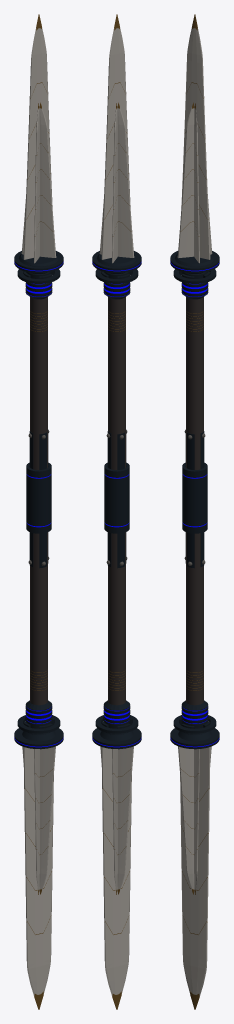
The model's file is SciFi_Double_Spear__Lopoly.FBX.
3 views of the same model, side by side, from view 1: azimuth 30°, elevation 25°; view 2: azimuth 210°, elevation 25°; view 3: azimuth 330°, elevation 25° (orthographic).
Parts seen in each view (by area): view 1: Box065, Cylinder026, Cylinder001, Box002, Cylinder029, Box063, Box067, Box064, Box066, Cylinder027, Cylinder002, Cylinder028 (+1 smaller); view 2: Box065, Cylinder026, Cylinder001, Box002, Cylinder029, Box063, Box067, Box064, Box066, Cylinder027, Cylinder002, Cylinder028 (+1 smaller); view 3: Box065, Cylinder026, Cylinder001, Box002, Cylinder029, Box064, Box066, Box063, Box067, Cylinder027, Cylinder002, Cylinder028 (+1 smaller).
Part boxes in pixels (box(x1,y1,x2,y2)): Box065: box(23, 747, 53, 1009); Cylinder026: box(22, 532, 55, 741); Cylinder001: box(19, 253, 58, 469); Box002: box(23, 14, 52, 259); Cylinder029: box(26, 429, 51, 568); Box063: box(21, 102, 56, 257); Box067: box(22, 746, 55, 894); Box064: box(34, 103, 39, 263); Box066: box(34, 749, 39, 894); Cylinder027: box(14, 728, 63, 749); Cylinder002: box(14, 251, 63, 273); Cylinder028: box(17, 715, 60, 733); Box065: box(101, 747, 131, 1009); Cylinder026: box(100, 532, 133, 741); Cylinder001: box(97, 253, 136, 469); Box002: box(101, 14, 130, 259); Cylinder029: box(104, 429, 129, 568); Box063: box(99, 102, 134, 257); Box067: box(100, 746, 133, 894); Box064: box(112, 103, 117, 263); Box066: box(112, 749, 117, 894); Cylinder027: box(92, 728, 141, 749); Cylinder002: box(92, 251, 141, 273); Cylinder028: box(95, 715, 138, 733); Box065: box(180, 747, 210, 1009); Cylinder026: box(178, 532, 211, 741); Cylinder001: box(175, 253, 214, 469); Box002: box(181, 14, 210, 259); Cylinder029: box(182, 429, 207, 568); Box064: box(177, 102, 212, 257); Box066: box(178, 746, 211, 894); Box063: box(194, 103, 199, 263); Box067: box(194, 749, 199, 894); Cylinder027: box(170, 728, 219, 749); Cylinder002: box(170, 251, 219, 273); Cylinder028: box(173, 715, 216, 733).
Bounding box in the file's own units: 19.97 × 443 × 19.97.
